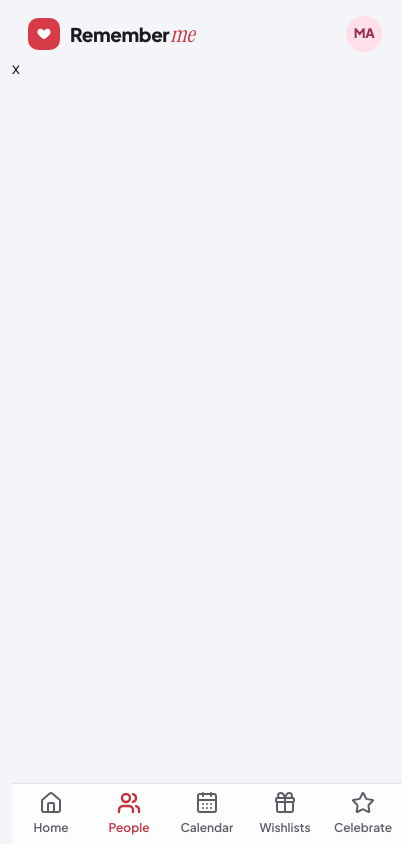
Test: App shell › on phones the avatar opens the same menu
Click the button named "Account menu for Maya" at (364,34), box x1=342 y1=12 x2=386 y2=56
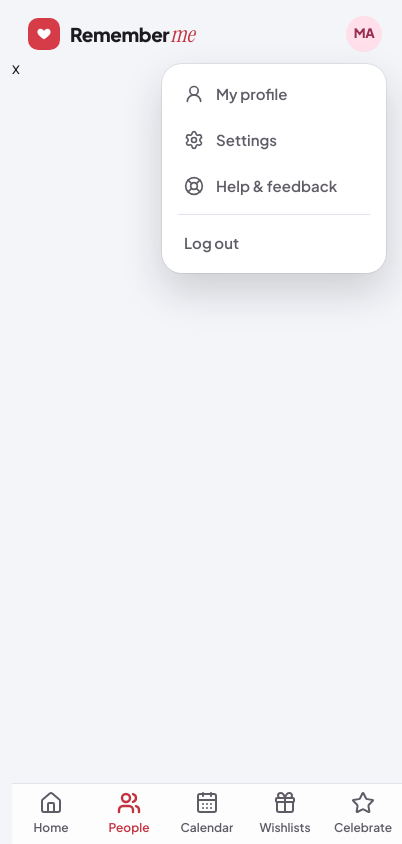
Expected: the menu is shown, x1=162 y1=64 x2=386 y2=273
